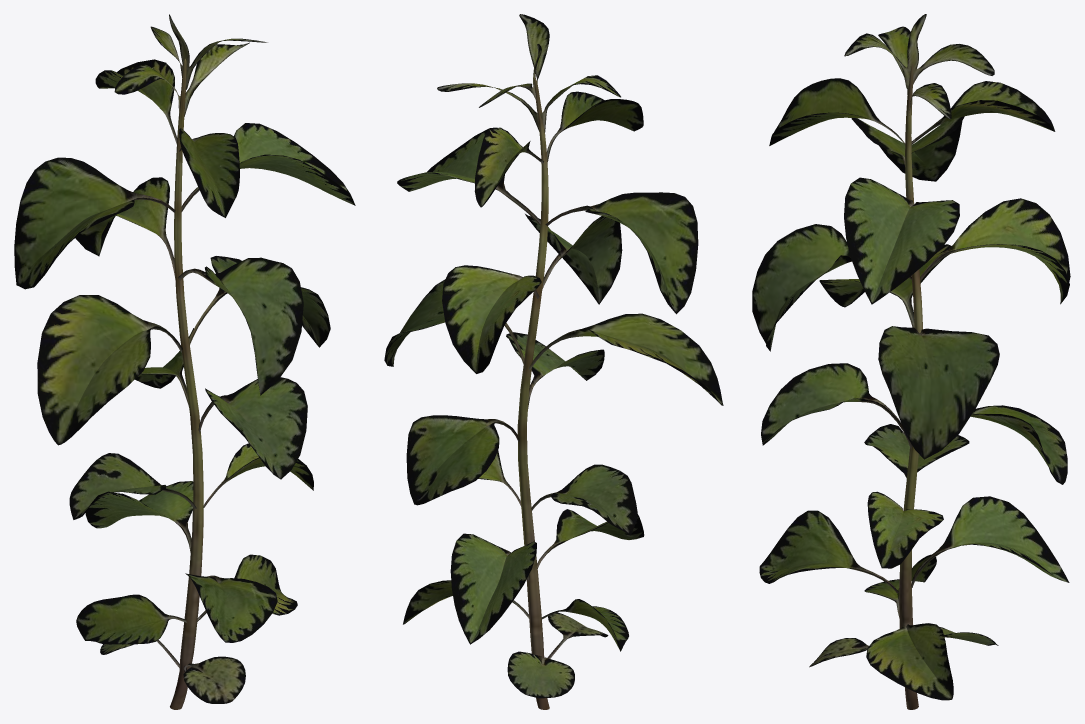
File: nettle_plant_tall.glb
3 views of the same model, side by side, from view 1: azimuth 30°, elevation 25°; view 2: azimuth 150°, elevation 25°; view 3: azimuth 270°, elevation 25° (orthographic). The views are drawn at different scales.
Parts seen in each view (by area): view 1: nettle_plant_tall; view 2: nettle_plant_tall; view 3: nettle_plant_tall.
Boxes of the visible parts, x1,y1,x2,y2 form: nettle_plant_tall: [14, 14, 355, 709]; nettle_plant_tall: [384, 14, 723, 709]; nettle_plant_tall: [752, 14, 1070, 709].
Bounding box in the file's own units: 0.1036 × 0.2168 × 0.0901.
1 material, 1 textured.
